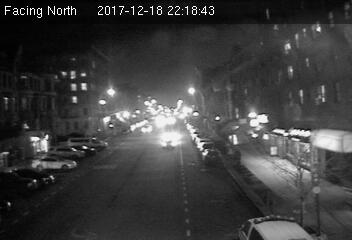car: (200, 149, 221, 163), (160, 138, 176, 149)
police: (236, 211, 320, 240)
